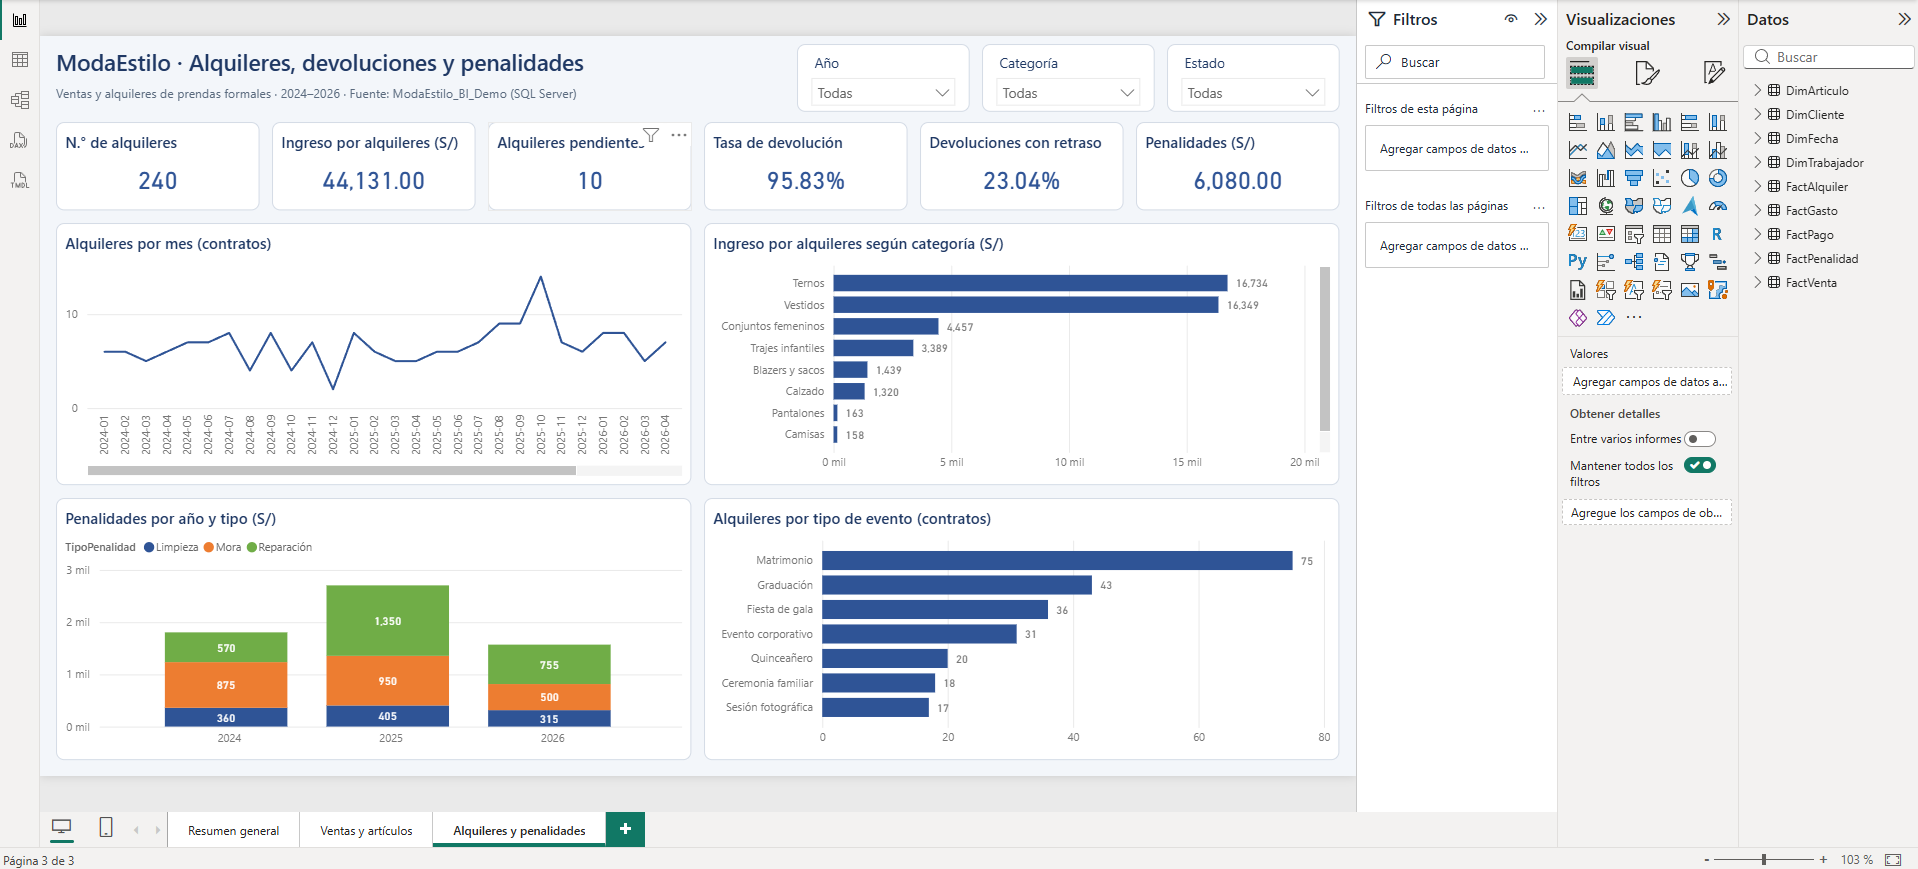

Layout of this report page (visuals, bound fields, positions):
{"tool":"powerbi","page":{"name":"Alquileres y penalidades","canvas":[1280,720],"ordinal":2},"visuals":[{"type":"textbox","box":[16,10,720,36],"z":1000},{"type":"textbox","box":[16,46,720,22],"z":2000},{"type":"slicer","fields":{"Values":["DimFecha.Anio"]},"box":[736,8,168,66],"z":3000},{"type":"slicer","fields":{"Values":["DimArticulo.Categoria"]},"box":[916,8,168,66],"z":4000},{"type":"slicer","fields":{"Values":["FactAlquiler.EstadoAlquiler"]},"box":[1096,8,168,66],"z":5000},{"type":"card","title":"N.° de alquileres","fields":{"Values":["FactAlquiler.Número de Alquileres"]},"box":[16,84,198,86],"z":6000},{"type":"card","title":"Ingreso por alquileres (S/)","fields":{"Values":["FactAlquiler.Ingreso Alquileres"]},"box":[226,84,198,86],"z":7000},{"type":"card","title":"Alquileres pendientes","fields":{"Values":["FactAlquiler.Alquileres Pendientes"]},"box":[436,84,198,86],"z":8000},{"type":"card","title":"Tasa de devolución","fields":{"Values":["FactAlquiler.Tasa de Devolución"]},"box":[646,84,198,86],"z":9000},{"type":"card","title":"Devoluciones con retraso","fields":{"Values":["FactAlquiler.% Devoluciones con Retraso"]},"box":[856,84,198,86],"z":10000},{"type":"card","title":"Penalidades (S/)","fields":{"Values":["FactPenalidad.Monto Penalidades"]},"box":[1066,84,198,86],"z":11000},{"type":"lineChart","title":"Alquileres por mes (contratos)","fields":{"Category":["DimFecha.AnioMes"],"Y":["FactAlquiler.Número de Alquileres"]},"box":[16,182,618,255],"z":12000},{"type":"clusteredBarChart","title":"Ingreso por alquileres según categoría (S/)","fields":{"Category":["DimArticulo.Categoria"],"Y":["FactAlquiler.Ingreso Alquileres"]},"box":[646,182,618,255],"z":13000},{"type":"columnChart","title":"Penalidades por año y tipo (S/)","fields":{"Category":["DimFecha.Anio"],"Y":["FactPenalidad.Monto Penalidades"],"Series":["FactPenalidad.TipoPenalidad"]},"box":[16,449,618,255],"z":14000},{"type":"clusteredBarChart","title":"Alquileres por tipo de evento (contratos)","fields":{"Category":["FactAlquiler.TipoEvento"],"Y":["FactAlquiler.Número de Alquileres"]},"box":[646,449,618,255],"z":15000}]}

Visuals, with their boxes on the page's 1280x720 design canvas (x1, y1, x2, y2). These are canvas units, not pixel positions in the 1918x869 screenshot, which may show the page scaled, cropped or inside an application window:
textbox: (x1=16, y1=10, x2=736, y2=46)
textbox: (x1=16, y1=46, x2=736, y2=68)
slicer - DimFecha.Anio: (x1=736, y1=8, x2=904, y2=74)
slicer - DimArticulo.Categoria: (x1=916, y1=8, x2=1084, y2=74)
slicer - FactAlquiler.EstadoAlquiler: (x1=1096, y1=8, x2=1264, y2=74)
"N.° de alquileres" card: (x1=16, y1=84, x2=214, y2=170)
"Ingreso por alquileres (S/)" card: (x1=226, y1=84, x2=424, y2=170)
"Alquileres pendientes" card: (x1=436, y1=84, x2=634, y2=170)
"Tasa de devolución" card: (x1=646, y1=84, x2=844, y2=170)
"Devoluciones con retraso" card: (x1=856, y1=84, x2=1054, y2=170)
"Penalidades (S/)" card: (x1=1066, y1=84, x2=1264, y2=170)
"Alquileres por mes (contratos)" lineChart: (x1=16, y1=182, x2=634, y2=437)
"Ingreso por alquileres según categoría (S/)" clusteredBarChart: (x1=646, y1=182, x2=1264, y2=437)
"Penalidades por año y tipo (S/)" columnChart: (x1=16, y1=449, x2=634, y2=704)
"Alquileres por tipo de evento (contratos)" clusteredBarChart: (x1=646, y1=449, x2=1264, y2=704)
